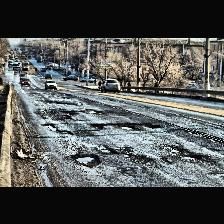pothole: (160, 144, 202, 158), (70, 153, 100, 167), (44, 122, 72, 134), (100, 146, 118, 154), (87, 108, 105, 114), (90, 122, 104, 128), (115, 122, 141, 125), (118, 124, 134, 128), (61, 110, 75, 114), (150, 123, 160, 127), (38, 106, 46, 110), (77, 102, 83, 104)
